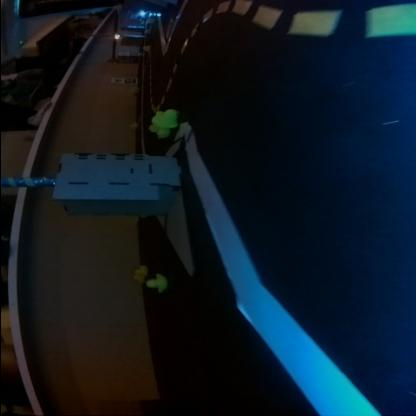Duckie: (151, 110, 175, 127), (144, 274, 165, 292), (148, 126, 164, 138), (132, 266, 144, 275), (130, 276, 142, 282), (141, 46, 149, 52), (131, 122, 135, 128)
QR code: (124, 78, 132, 83)
